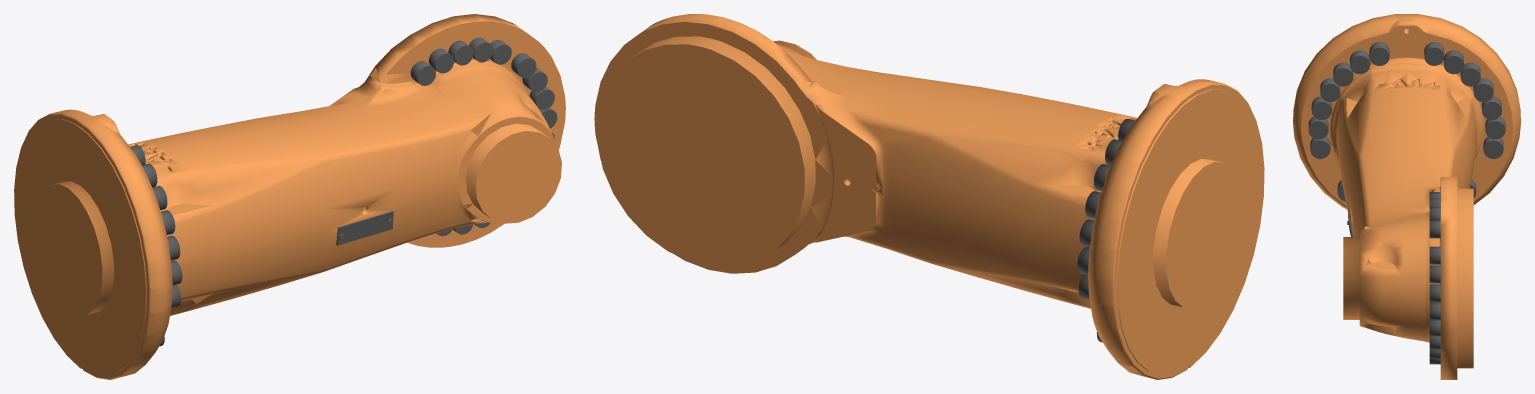
3 renders of one model, left to right at view 1: azimuth 30°, elevation 25°; view 2: azimuth 150°, elevation 25°; view 3: azimuth 270°, elevation 25°, orthographic. The views are drawn at different scales.
Visible parts, largest first — view 1: link_4; view 2: link_4; view 3: link_4.
Boxes of the visible parts, left/top/right/bottom form: link_4: left=14, top=14, right=565, bottom=379; link_4: left=594, top=14, right=1264, bottom=379; link_4: left=1293, top=14, right=1520, bottom=379.
Size of the model in its own units: 0.4416 by 0.202 by 0.2019.
